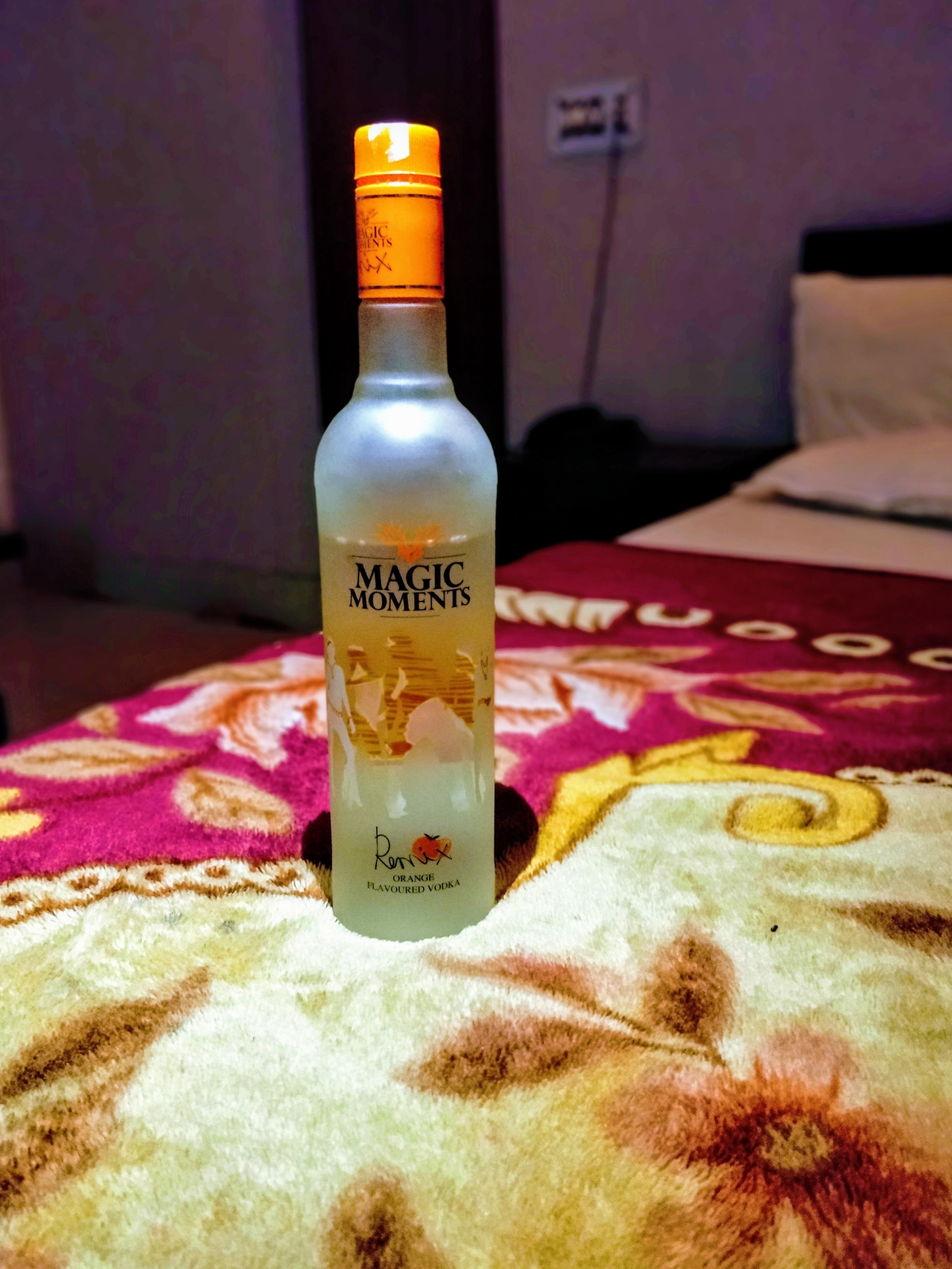bottle-glass: (307, 117, 509, 948)
